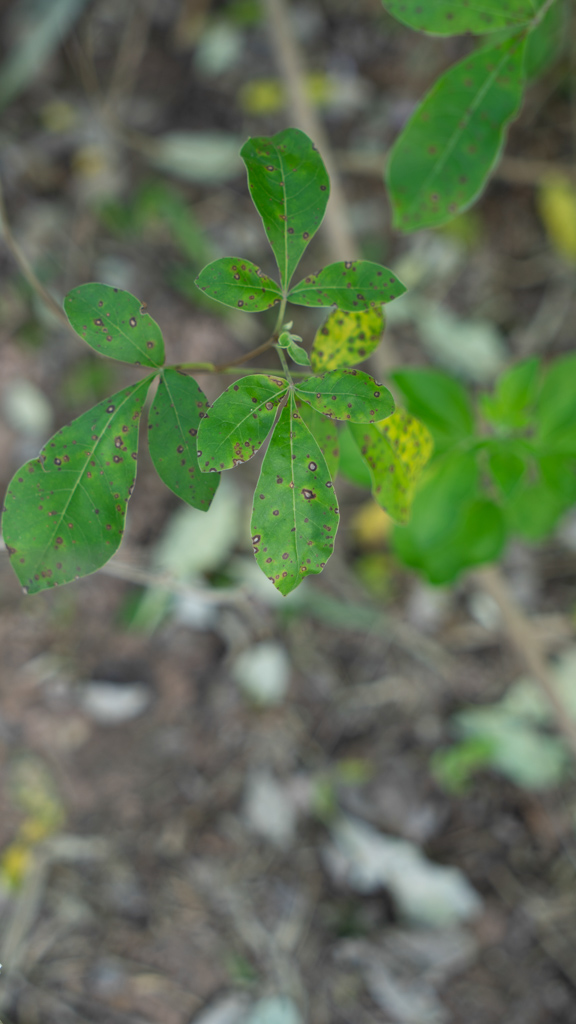Alternaria brassicicola: (3, 382, 148, 597), (253, 412, 337, 594), (355, 404, 438, 527), (58, 276, 163, 370), (149, 368, 217, 508), (196, 373, 288, 476), (285, 261, 408, 307), (194, 252, 278, 319), (308, 302, 392, 364), (301, 368, 397, 421)
